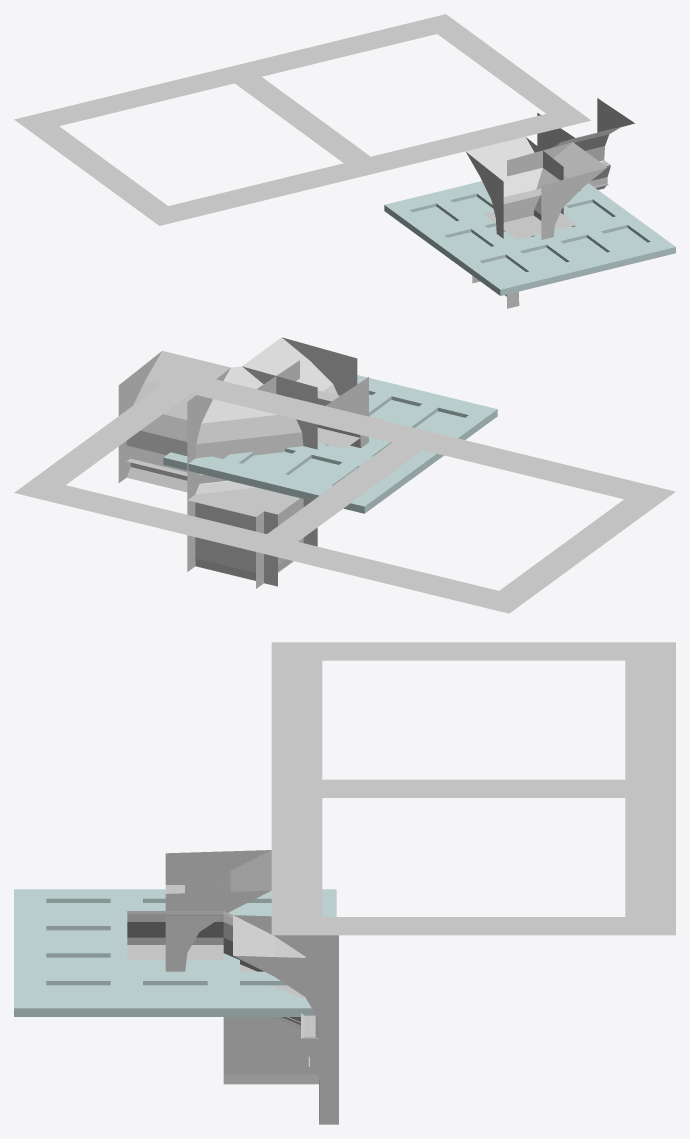
Rendered from actualroompieces.fbx.
The picture shows the model from 3 angles, top to bottom: view 1: azimuth 30°, elevation 25°; view 2: azimuth 150°, elevation 25°; view 3: azimuth 270°, elevation 25°; orthographic projection. The views are drawn at different scales.
Parts seen in each view (by area): view 1: BORDERCIELING, CIELING, CORNERWALL, GLASSPANES, HIGHWALL, WALL, FLOOR; view 2: BORDERCIELING, CORNERWALL, CIELING, GLASSPANES, HIGHWALL, FLOOR; view 3: BORDERCIELING, CIELING, CORNERWALL, HIGHWALL, GLASSPANES, FLOOR, WALL.
Boxes of the visible parts, x1=… form: BORDERCIELING: x1=14, y1=14, x2=590, y2=225; CIELING: x1=384, y1=181, x2=675, y2=295; CORNERWALL: x1=472, y1=98, x2=634, y2=308; GLASSPANES: x1=413, y1=196, x2=647, y2=277; HIGHWALL: x1=465, y1=136, x2=563, y2=238; WALL: x1=496, y1=188, x2=563, y2=237; FLOOR: x1=483, y1=211, x2=576, y2=239; BORDERCIELING: x1=14, y1=371, x2=675, y2=613; CORNERWALL: x1=118, y1=337, x2=357, y2=588; CIELING: x1=163, y1=375, x2=497, y2=513; GLASSPANES: x1=242, y1=394, x2=464, y2=481; HIGHWALL: x1=257, y1=360, x2=368, y2=447; FLOOR: x1=317, y1=416, x2=384, y2=448; BORDERCIELING: x1=271, y1=642, x2=675, y2=935; CIELING: x1=14, y1=889, x2=336, y2=1016; CORNERWALL: x1=127, y1=911, x2=338, y2=1124; HIGHWALL: x1=165, y1=850, x2=271, y2=971; GLASSPANES: x1=46, y1=903, x2=304, y2=999; FLOOR: x1=127, y1=945, x2=223, y2=960; WALL: x1=165, y1=885, x2=184, y2=971.
Size of the model in its own units: 7700 by 2400 by 6876.
